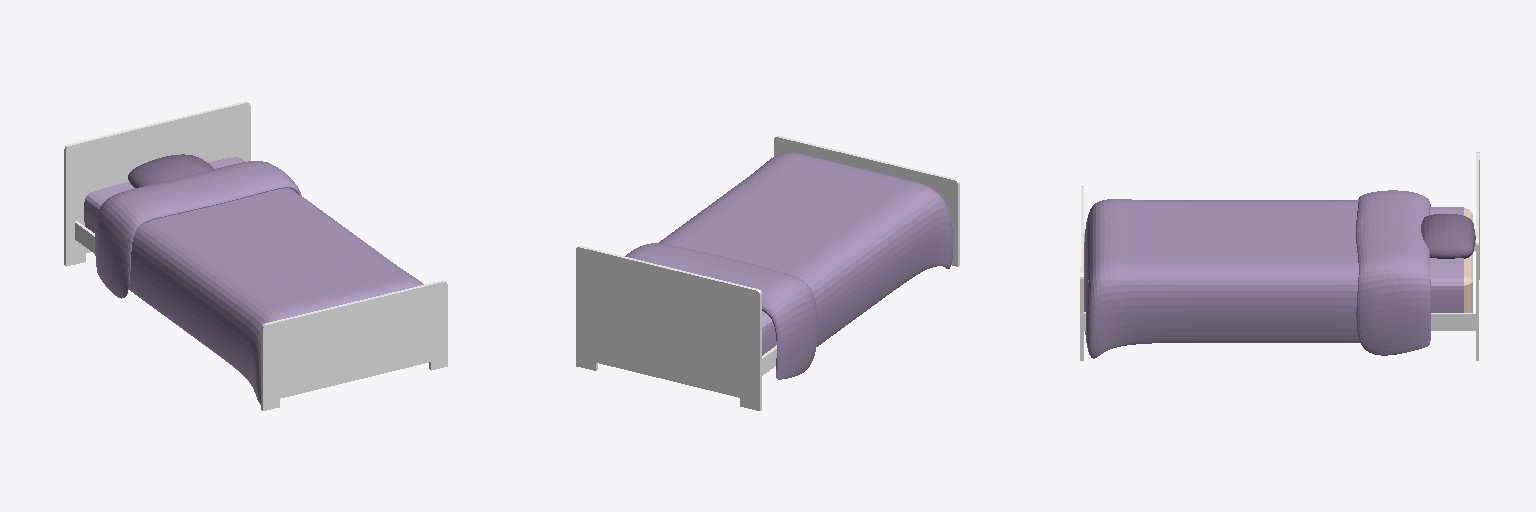
File: livingRoomBed.obj
3 views of the same model, side by side, from view 1: azimuth 30°, elevation 25°; view 2: azimuth 150°, elevation 25°; view 3: azimuth 270°, elevation 25° (orthographic).
Parts seen in each view (by area): view 1: Plane.003_Plane.004, Cube_Cube.001, Cube.010_Cube.011, Plane.004_Plane.005; view 2: Plane.003_Plane.004, Cube_Cube.001; view 3: Plane.003_Plane.004, Cube.010_Cube.011, Plane.004_Plane.005, Cube_Cube.001, Cube.001_Cube.000, Cube.007_Cube.004.
Boxes of the visible parts, <box> form: Plane.003_Plane.004: <box>95,161,423,404</box>; Cube_Cube.001: <box>64,101,447,410</box>; Cube.010_Cube.011: <box>128,154,213,187</box>; Plane.004_Plane.005: <box>84,157,245,232</box>; Plane.003_Plane.004: <box>625,153,952,379</box>; Cube_Cube.001: <box>576,136,959,410</box>; Plane.003_Plane.004: <box>1084,190,1430,358</box>; Cube.010_Cube.011: <box>1421,214,1475,258</box>; Plane.004_Plane.005: <box>1430,207,1463,312</box>; Cube_Cube.001: <box>1080,152,1479,360</box>; Cube.001_Cube.000: <box>1084,232,1475,330</box>; Cube.007_Cube.004: <box>1088,208,1472,312</box>.
Bounding box in the file's own units: 106 × 65.61 × 198.